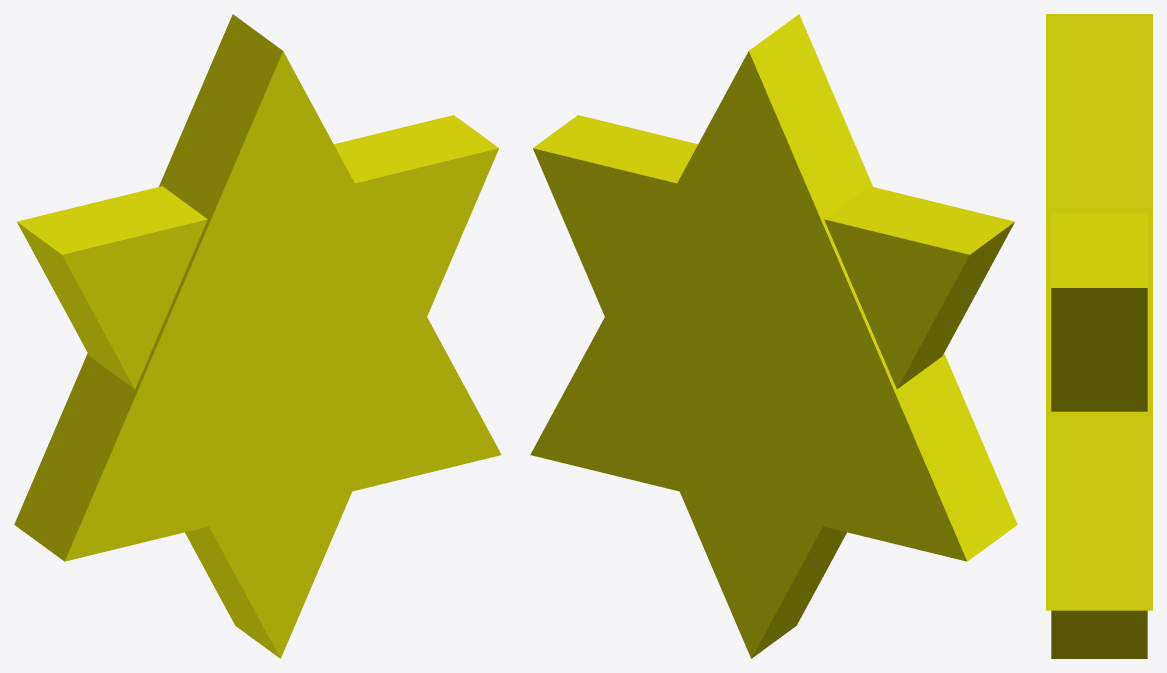
The model's file is Star.fbx.
3 renders of one model, left to right at view 1: azimuth 30°, elevation 25°; view 2: azimuth 150°, elevation 25°; view 3: azimuth 270°, elevation 25°, orthographic. The views are drawn at different scales.
Visible parts, largest first — view 1: Star; view 2: Star; view 3: Star.
Part boxes in pixels (x1,y1,x2,y2): Star: (14,14,501,658); Star: (530,14,1017,658); Star: (1046,14,1152,658).
Size of the model in its own units: 130 by 173 by 25.92.
